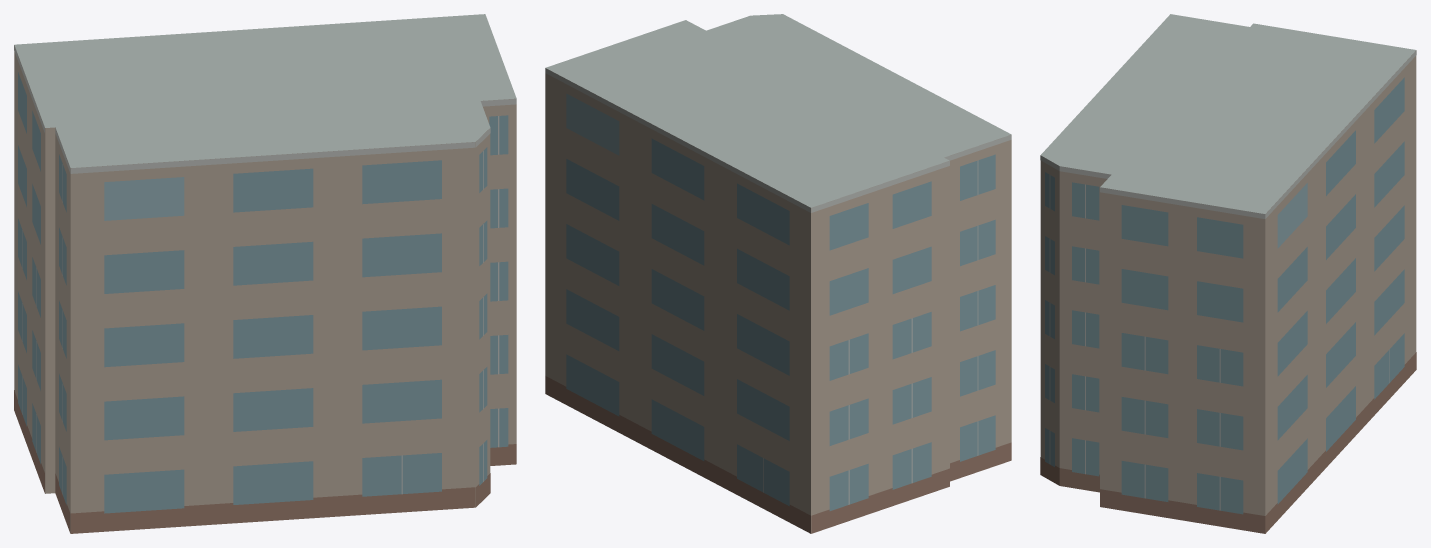
File: survey-upis-32939110.glb
3 views of the same model, side by side, from view 1: azimuth 30°, elevation 25°; view 2: azimuth 150°, elevation 25°; view 3: azimuth 270°, elevation 25° (orthographic). The views are drawn at different scales.
Parts seen in each view (by area): view 1: survey-upis-32939110.tmp; view 2: survey-upis-32939110.tmp; view 3: survey-upis-32939110.tmp.
Boxes of the visible parts, <box> form: survey-upis-32939110.tmp: <box>14,14,516,533</box>; survey-upis-32939110.tmp: <box>545,14,1011,533</box>; survey-upis-32939110.tmp: <box>1040,14,1416,533</box>.
Bounding box in the file's own units: 20.63 × 15.36 × 16.38.
